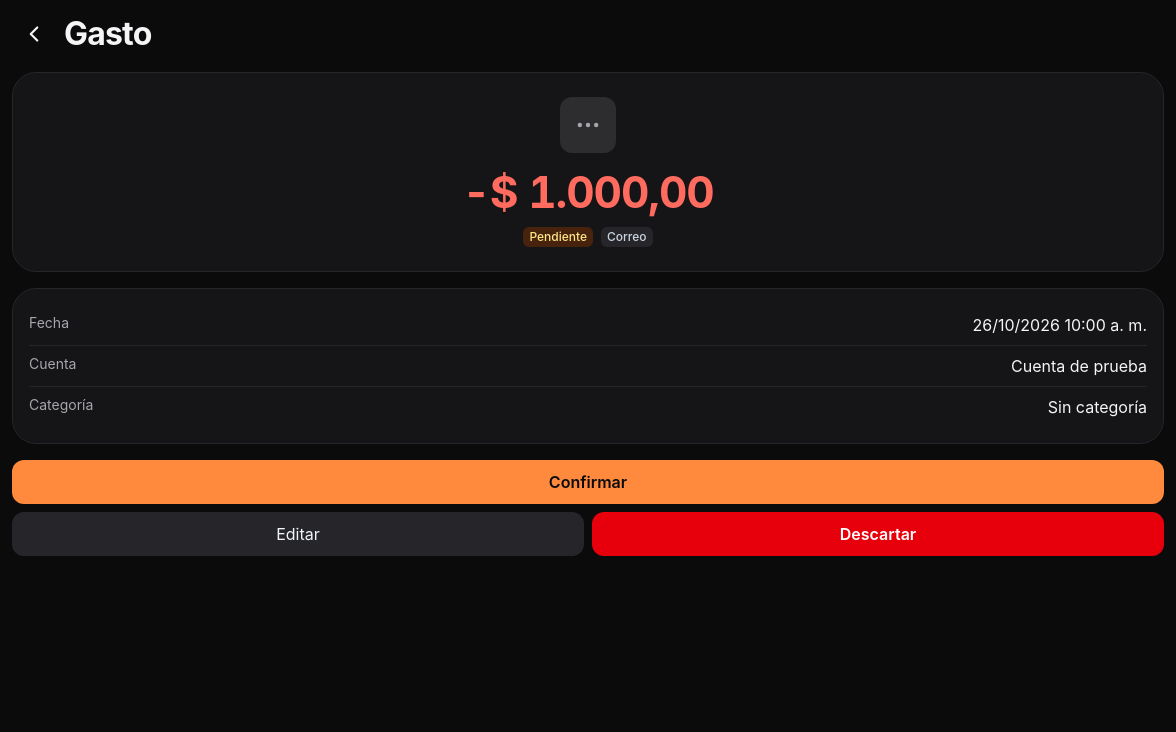
imported movements › shows the API message when confirming fails
Click the button "Confirmar" at (588, 482), box [12, 460, 1164, 504]
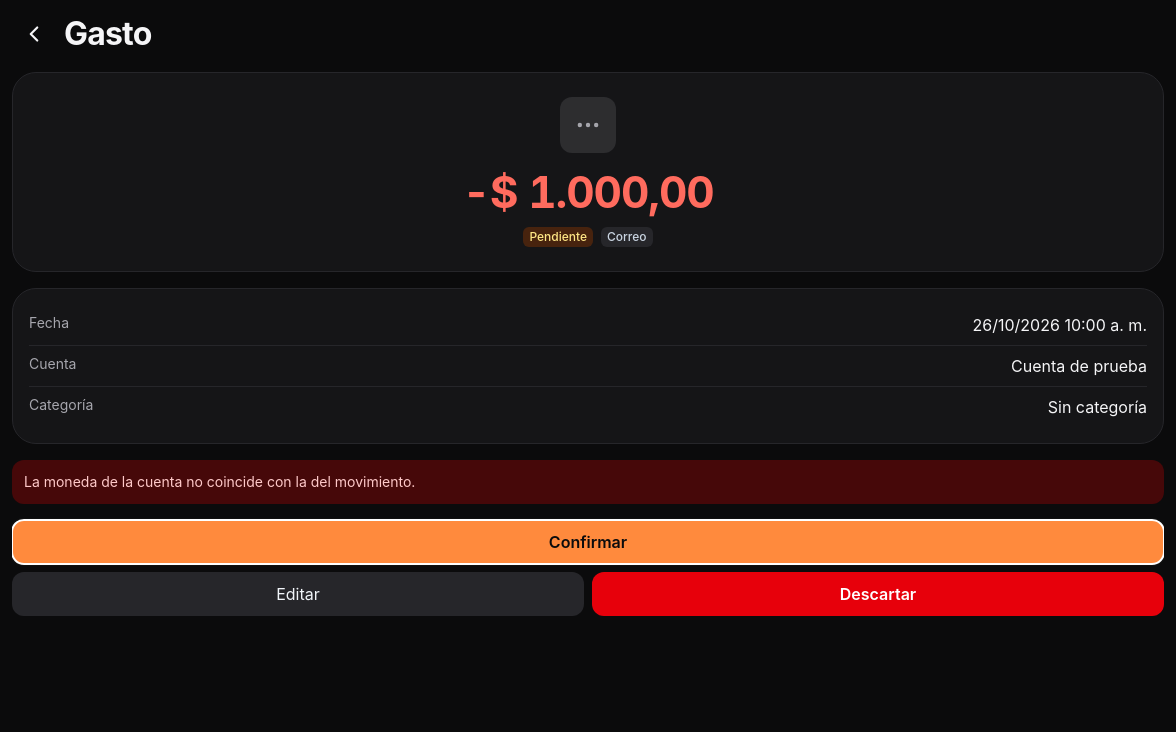
Expected: the text "La moneda de la cuenta no coincide con la del movimiento." is shown, [12, 460, 1164, 504]
